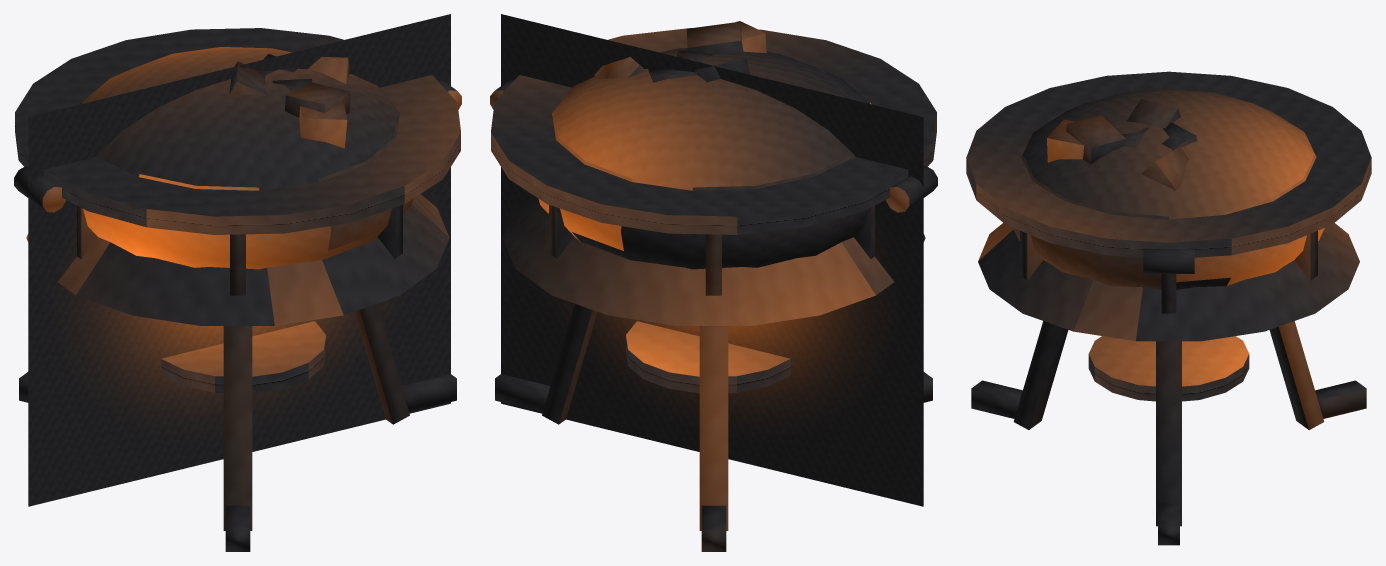
The model's file is Brazier_IronEmbers_MultiLOD.glb.
The picture shows the model from 3 angles, left to right: view 1: azimuth 30°, elevation 25°; view 2: azimuth 150°, elevation 25°; view 3: azimuth 270°, elevation 25°; orthographic projection. The views are drawn at different scales.
Parts seen in each view (by area): view 1: Brazier_IronEmbers_LOD0, Brazier_IronEmbers_Impostor; view 2: Brazier_IronEmbers_LOD0, Brazier_IronEmbers_Impostor; view 3: Brazier_IronEmbers_LOD0.
Part boxes in pixels (x1,y1,x2,y2): Brazier_IronEmbers_LOD0: (14,28,461,551); Brazier_IronEmbers_Impostor: (28,14,450,506); Brazier_IronEmbers_LOD0: (490,21,937,551); Brazier_IronEmbers_Impostor: (501,14,923,506); Brazier_IronEmbers_LOD0: (966,71,1371,545).
Size of what is drawn, in the model's own units: 1.2 by 1.06 by 1.1.
1 material, 1 textured.
